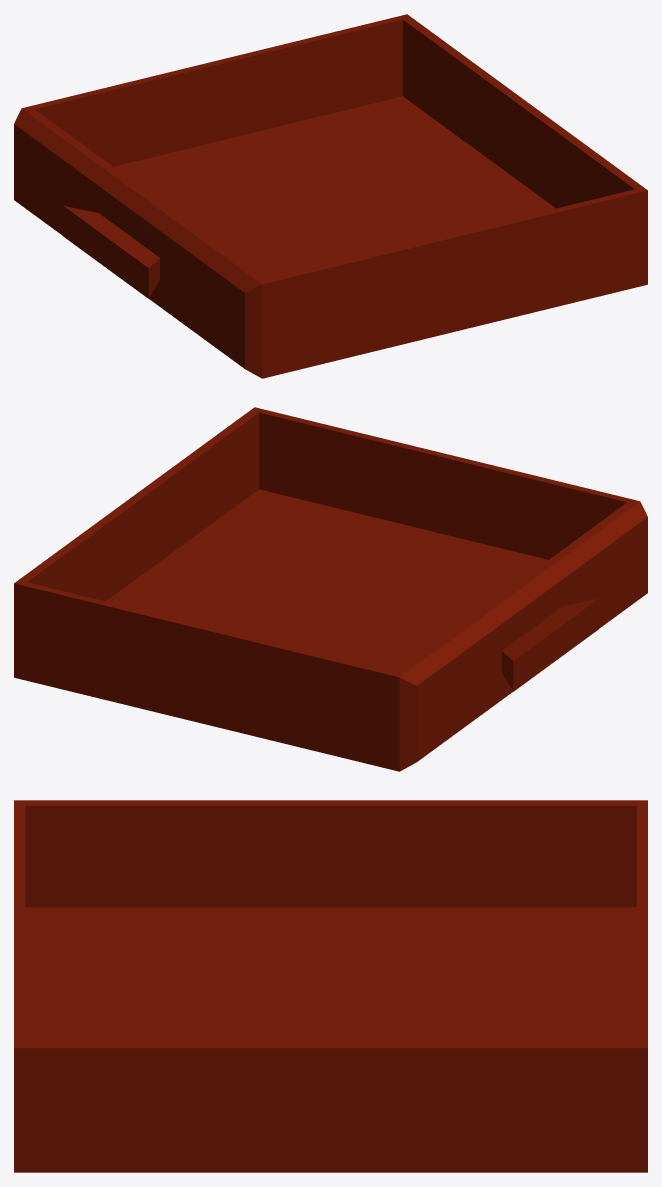
The model's file is DresserDoor01.FBX.
3 renders of one model, top to bottom at view 1: azimuth 30°, elevation 25°; view 2: azimuth 150°, elevation 25°; view 3: azimuth 270°, elevation 25°, orthographic. The views are drawn at different scales.
Parts seen in each view (by area): view 1: DresserDoor01; view 2: DresserDoor01; view 3: DresserDoor01.
Part boxes in pixels (box(x1,y1,x2,y2)): DresserDoor01: box(14, 14, 647, 378); DresserDoor01: box(14, 407, 647, 771); DresserDoor01: box(14, 800, 647, 1172).
Bounding box in the file's own units: 43.42 × 42.92 × 9.27.
